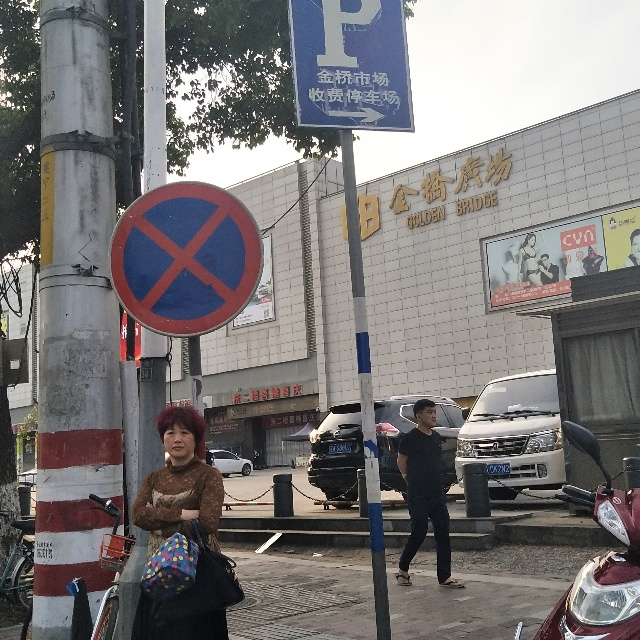stop: (114, 194, 255, 323)
